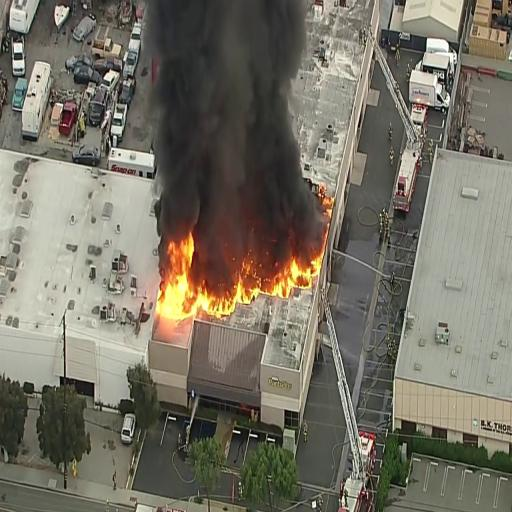fire: (149, 230, 194, 325), (196, 269, 254, 319), (252, 262, 313, 307)
smoke: (174, 0, 290, 210)
